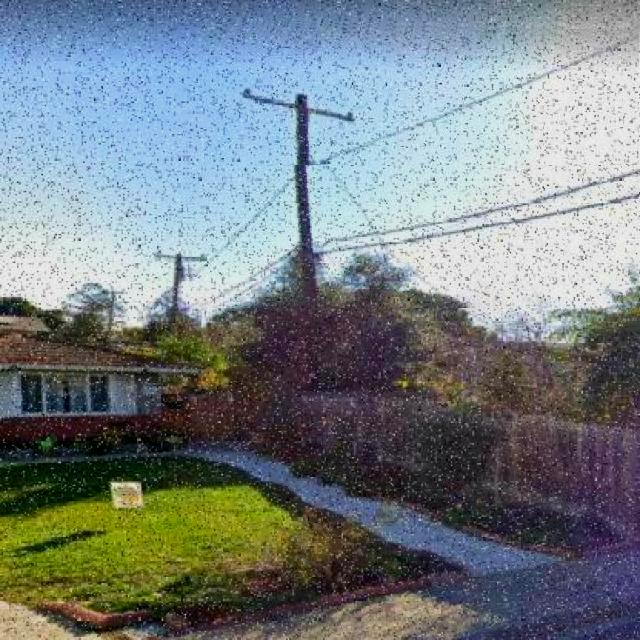crossarm: (243, 89, 363, 124)
pole: (297, 93, 315, 431)
wire: (187, 28, 639, 287), (198, 165, 640, 308), (314, 191, 639, 263)
